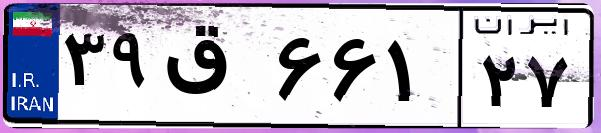1: (385, 28, 445, 110)
2: (475, 38, 525, 113)
3: (57, 26, 110, 100)
6: (270, 28, 330, 110), (330, 28, 385, 110)
7: (525, 38, 570, 115)
9: (110, 28, 158, 98)
ق: (158, 20, 270, 120)
